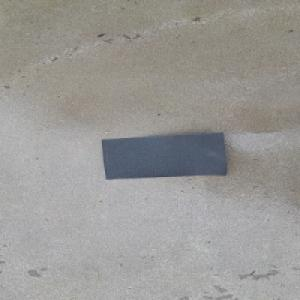PaintChip: (100, 131, 227, 179)
